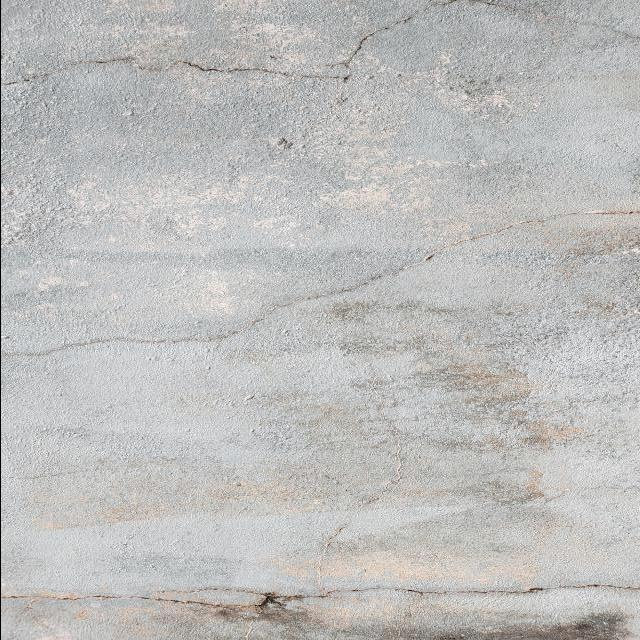SurfaceCrack: (1, 190, 640, 379), (1, 0, 640, 124), (1, 543, 639, 640)
